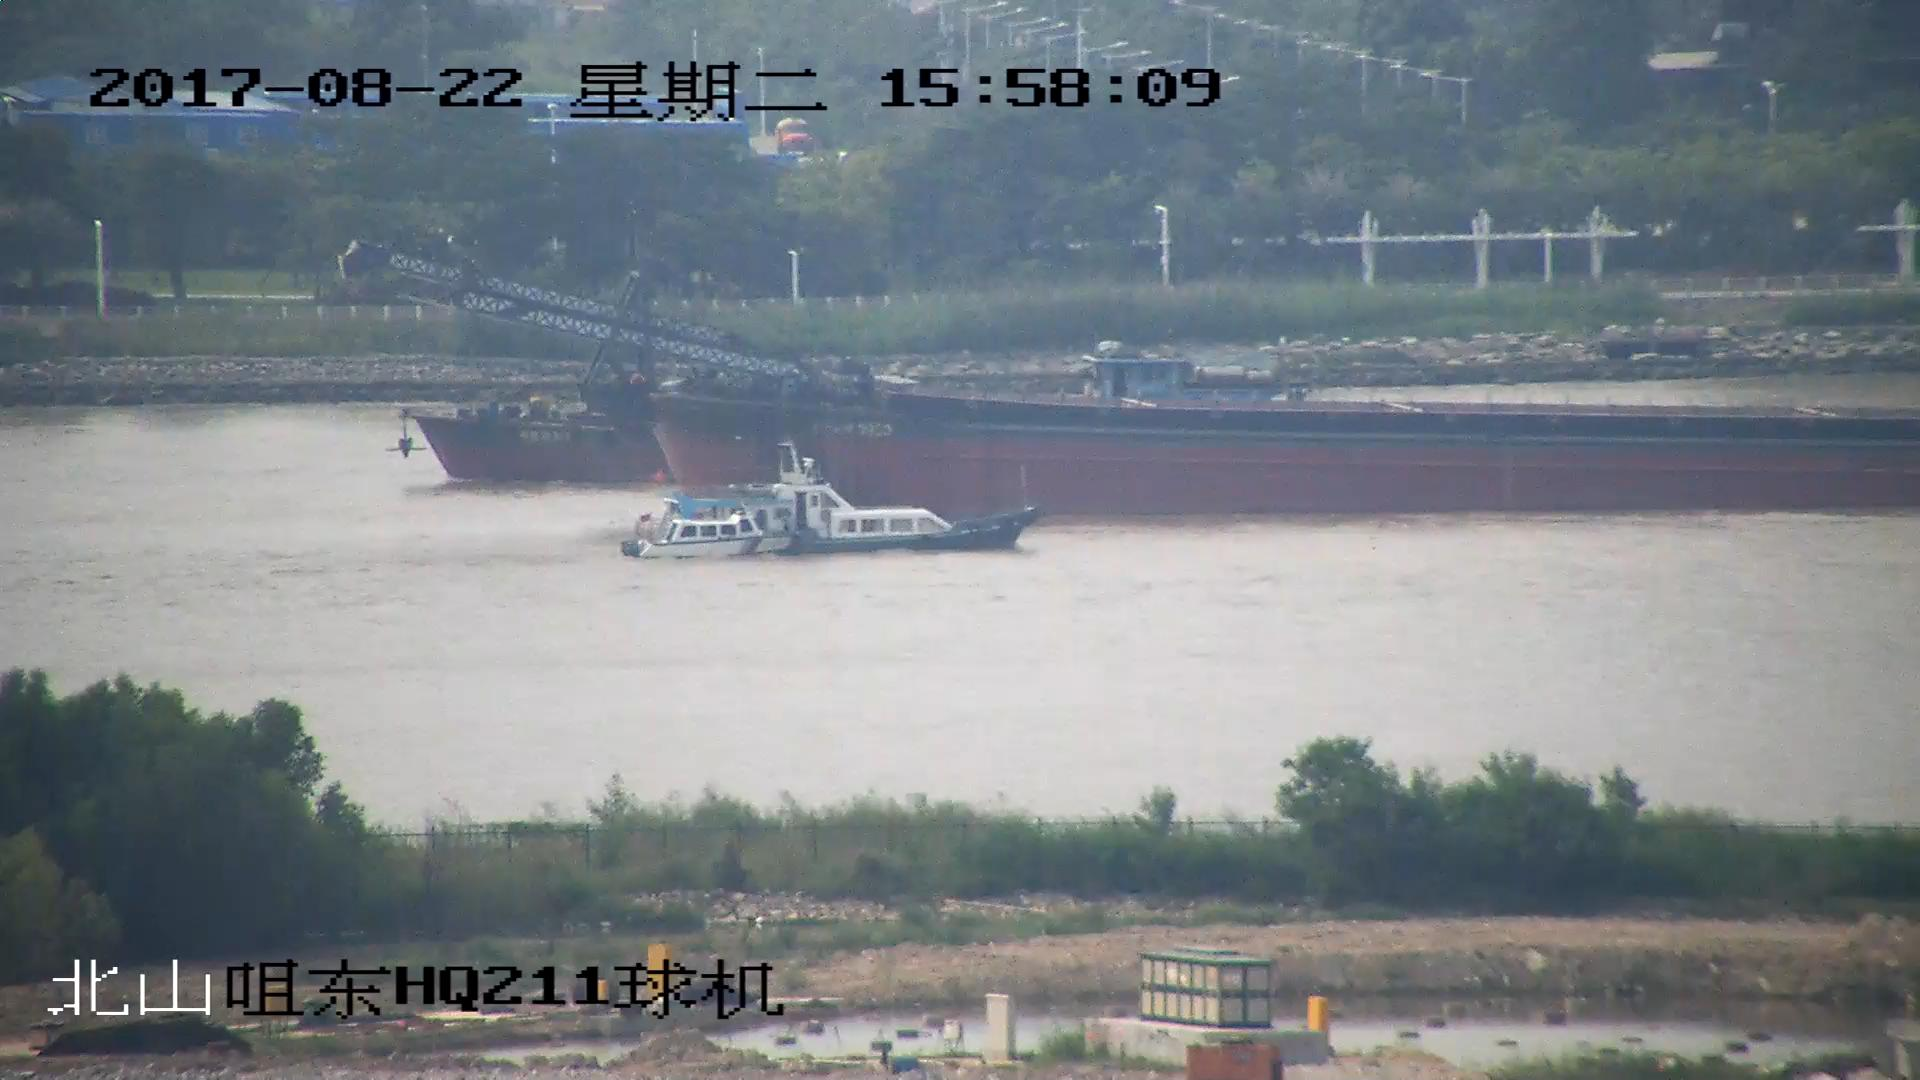bulk cargo carrier: (344, 242, 1920, 517), (393, 399, 689, 484)
fishing boat: (614, 452, 1044, 559)
